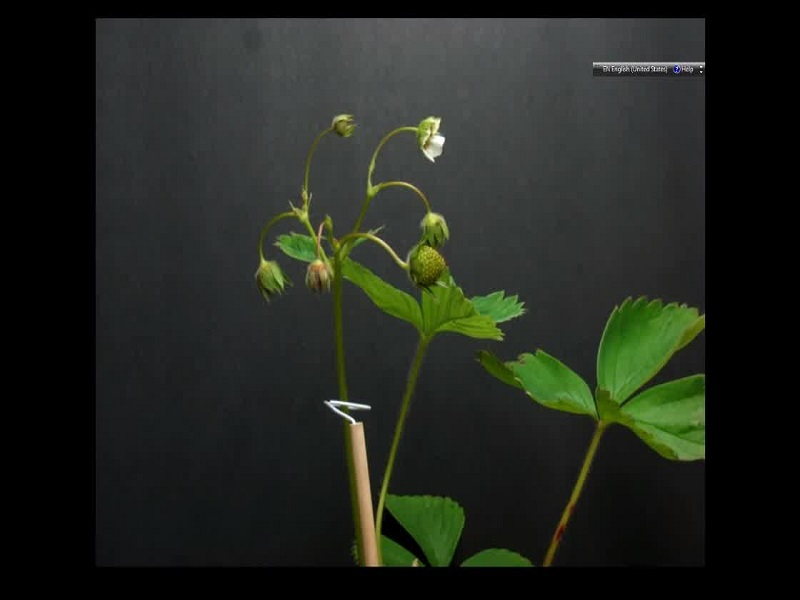storeberry-fruit-4: (331, 112, 357, 139)
storeberry-fruit-5: (415, 116, 446, 162)
storeberry-fruit-6: (250, 259, 290, 301), (303, 258, 335, 294), (417, 211, 450, 244)
storeberry-fruit-8: (405, 245, 448, 287)
storeberry-leaf-5: (598, 291, 688, 398), (479, 346, 596, 422), (617, 376, 691, 469), (350, 258, 422, 332), (380, 488, 468, 546), (276, 232, 315, 259)
